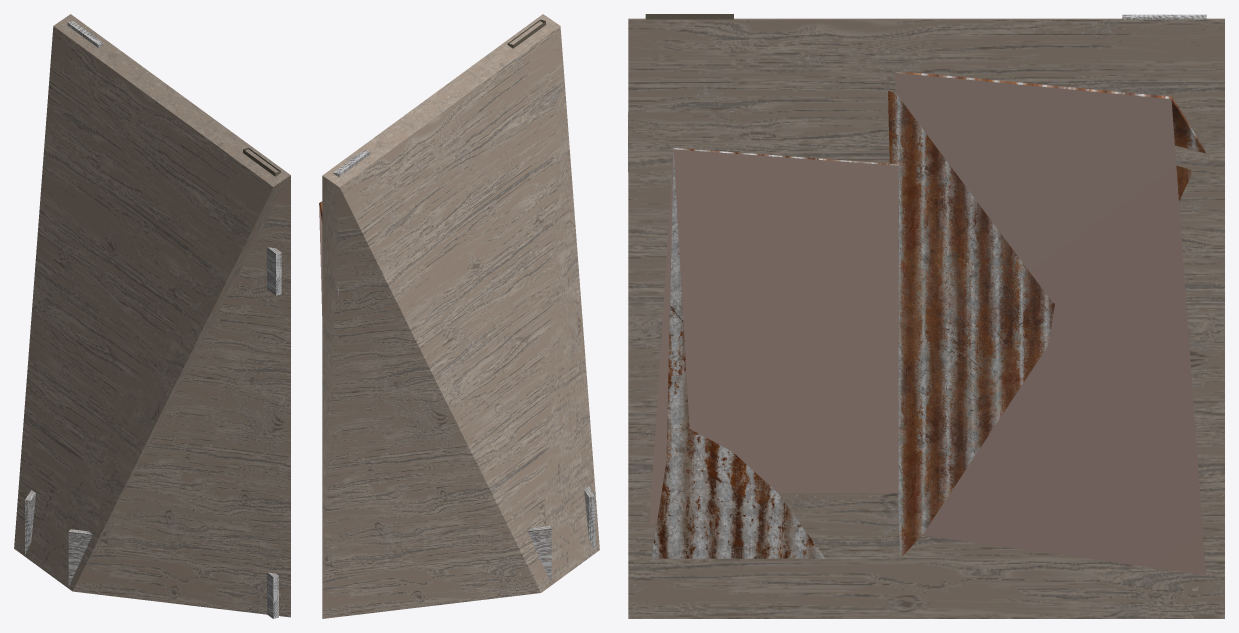
File: si_slumber_wall_b.DAE
The picture shows the model from 3 angles, left to right: view 1: azimuth 30°, elevation 25°; view 2: azimuth 150°, elevation 25°; view 3: azimuth 270°, elevation 25°; orthographic projection. The views are drawn at different scales.
Parts seen in each view (by area): view 1: Colmesh-1, si_slumber_wall_b40, si_slumber_wall_b100; view 2: Colmesh-1, si_slumber_wall_b40, si_slumber_wall_b100; view 3: si_slumber_wall_b15, Colmesh-1, si_slumber_wall_b40, si_slumber_wall_b100.
Part boxes in pixels (left/top/right/bottom): Colmesh-1: left=14, top=14, right=290, bottom=617; si_slumber_wall_b40: left=31, top=22, right=280, bottom=618; si_slumber_wall_b100: left=25, top=21, right=281, bottom=618; Colmesh-1: left=322, top=14, right=599, bottom=618; si_slumber_wall_b40: left=320, top=20, right=588, bottom=583; si_slumber_wall_b100: left=319, top=19, right=595, bottom=551; si_slumber_wall_b15: left=646, top=14, right=1205, bottom=575; Colmesh-1: left=628, top=18, right=1224, bottom=618; si_slumber_wall_b40: left=628, top=14, right=1206, bottom=558; si_slumber_wall_b100: left=628, top=14, right=1206, bottom=538.
Size of the model in its own units: 84.36 by 201 by 222.
